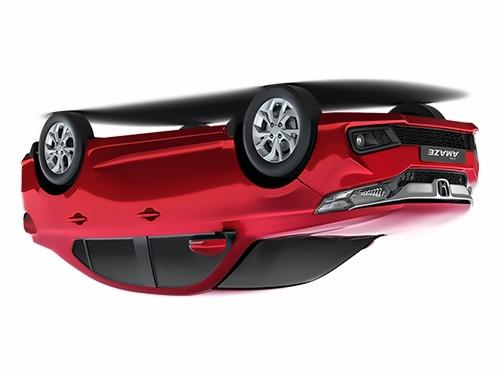Car hood: (289, 200, 475, 240)
Fender - -F-L-: (219, 105, 329, 249)
Fender - -R-L-: (25, 132, 94, 266)
Front bumper: (292, 107, 486, 197)
Headlight - -L-: (306, 181, 399, 215)
Headlight - -R-: (452, 168, 484, 207)
Passenger-s door - -F-L-: (140, 131, 237, 296)
Passenger-s door - -R-L-: (67, 139, 146, 297)
Rear bumper: (12, 146, 63, 197)
Rear light - -L-: (12, 199, 52, 244)
Side bumper - -L-: (80, 124, 241, 167)
Side mirror - -L-: (181, 222, 241, 268)
